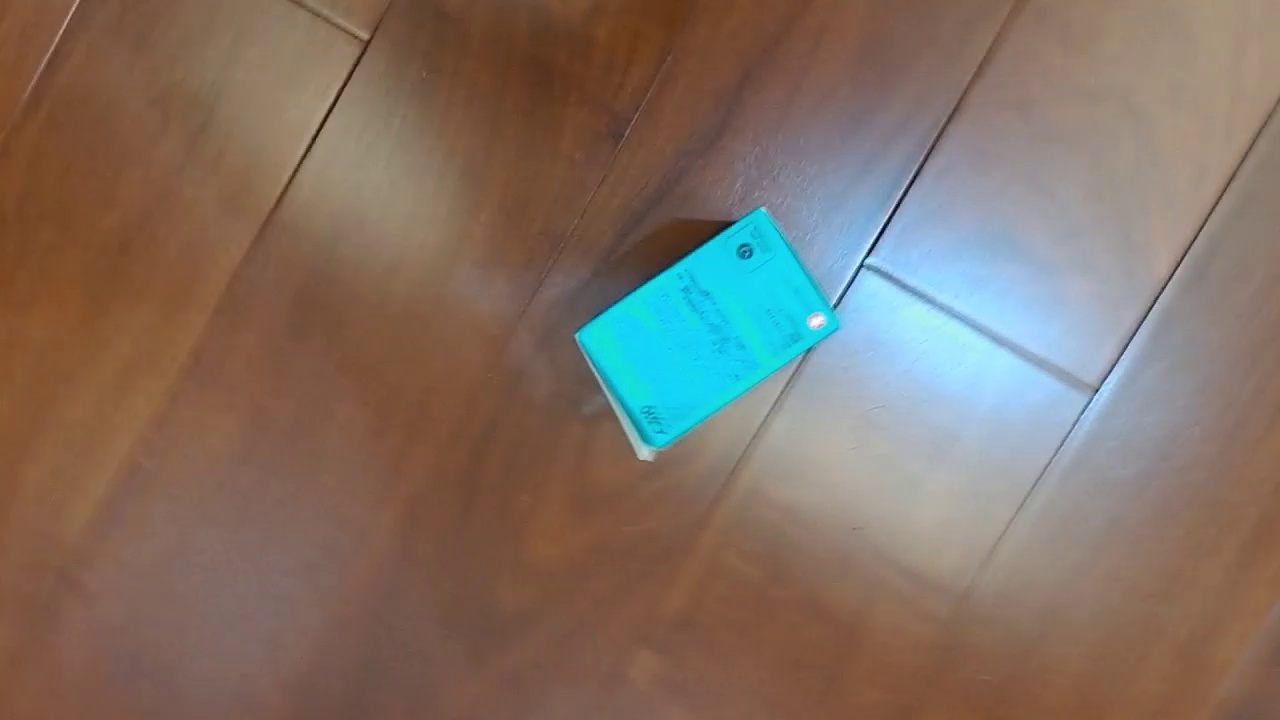webcam: (572, 205, 844, 464)
